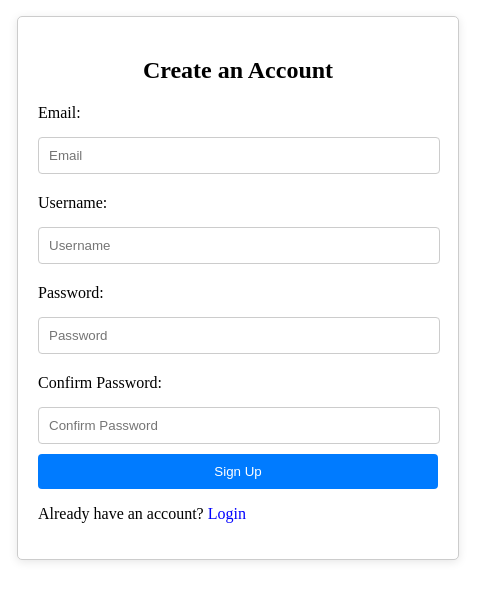
it: SignUp Component › displays error message on registration failure
The image size is (477, 608).
In the field labelled "Email:": (239, 155) [38,137,440,174], type "test@example.com"
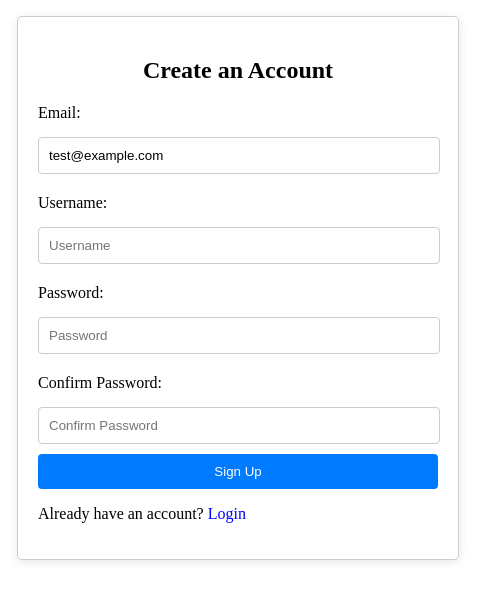
In the field labelled "Username:": (239, 245) [38,227,440,264], type "testuser"
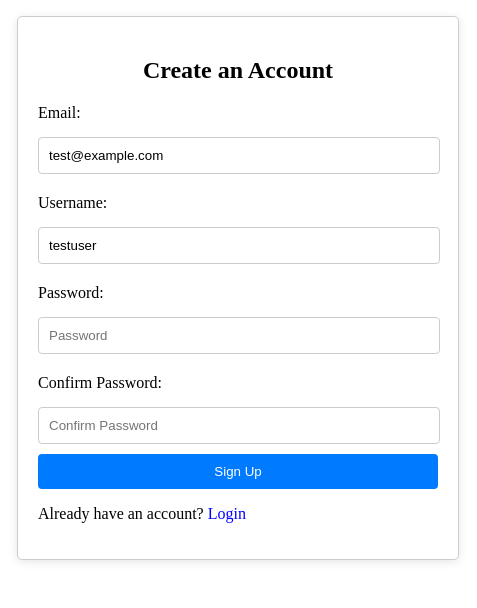
In the password field labelled "Password:": (239, 335) [38,317,440,354], type "password123"
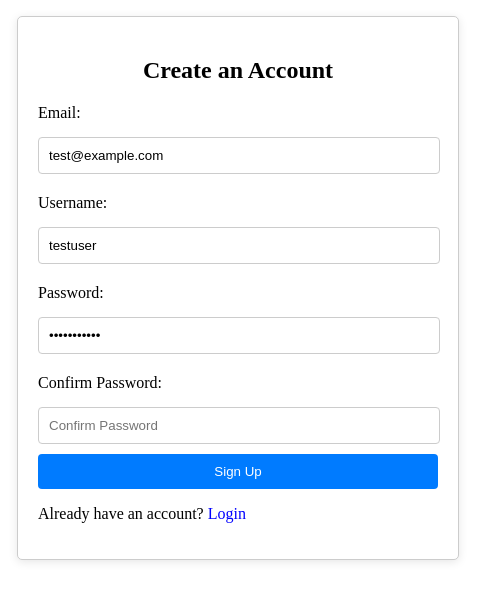
In the password field labelled "Confirm Password:": (239, 425) [38,407,440,444], type "password123"
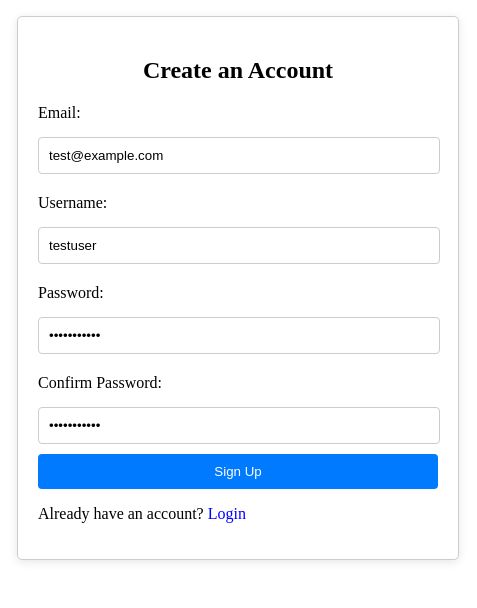
Click the button "Sign Up": (238, 471) [38,454,438,489]
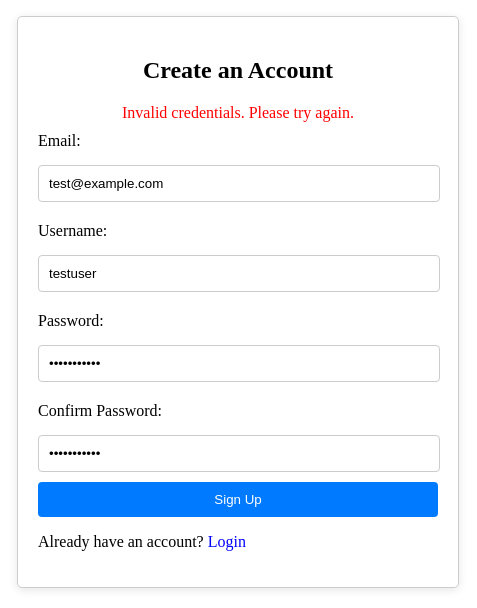
Result: the text "Invalid credentials. Please try again." is shown at [122,104,354,121]
